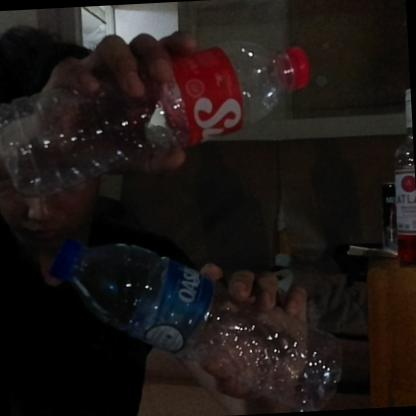plastic_bottles: (59, 218, 346, 416), (0, 38, 312, 220)
